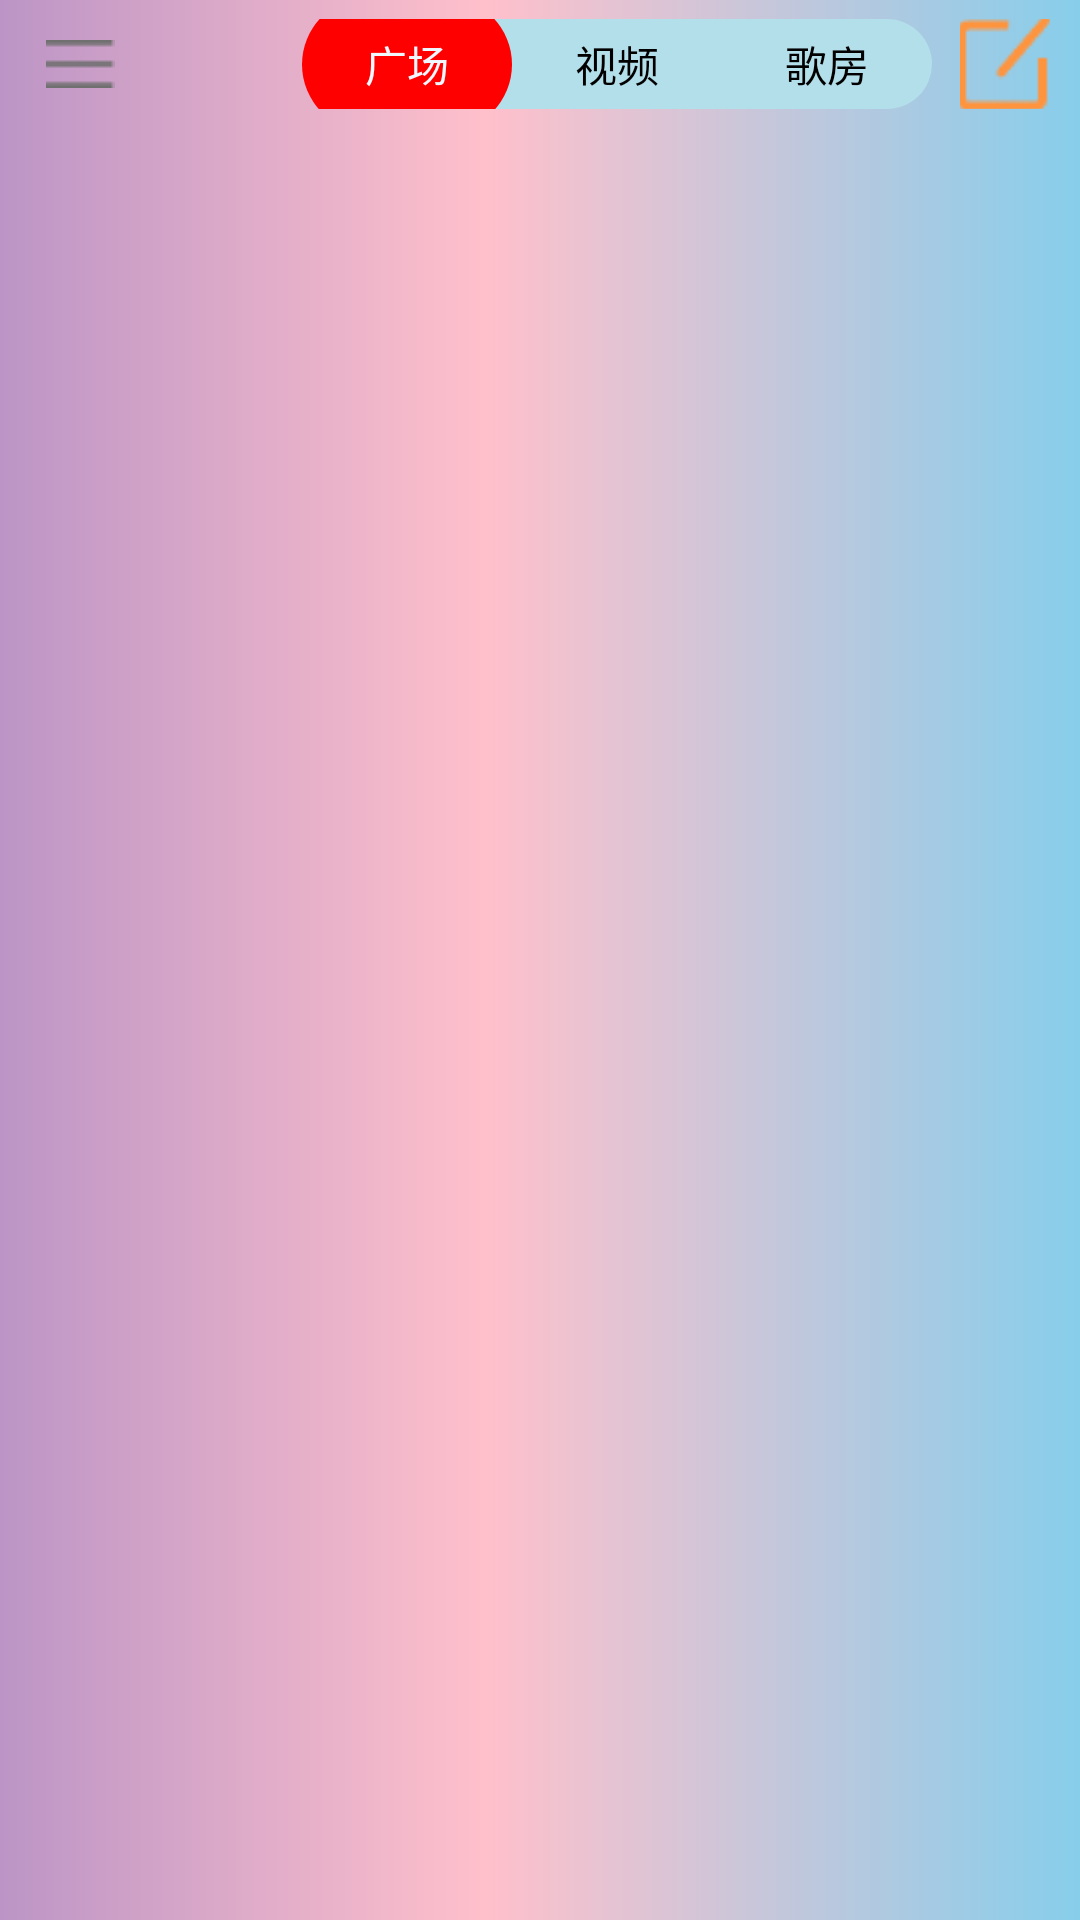

Screen size 1080 × 1920. Icon name, then its center in pixels as (x=x, y=y):
cehua: (x=80, y=64)
edit: (x=1005, y=64)
